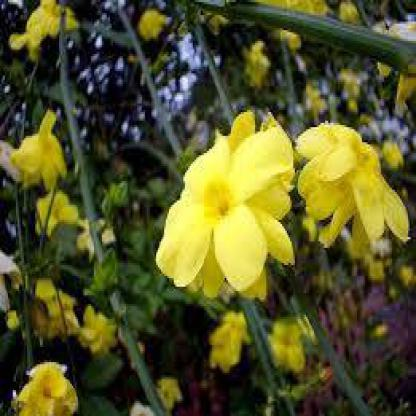Melati: (160, 111, 398, 283)
